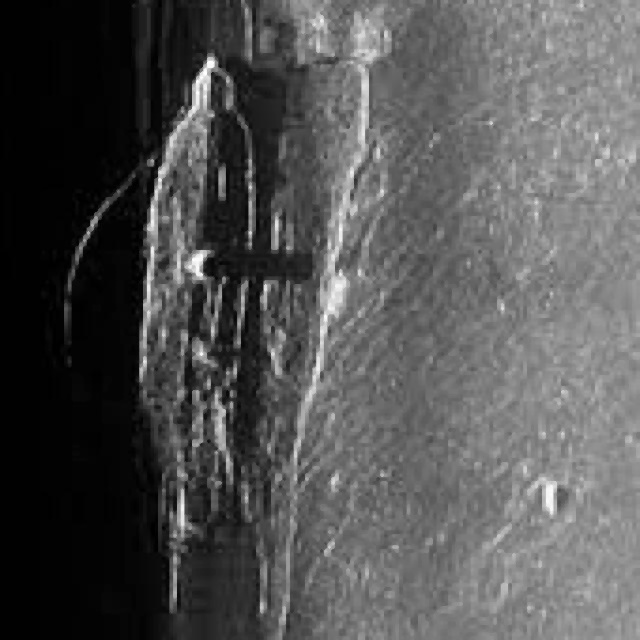Ship: (123, 45, 316, 623)
